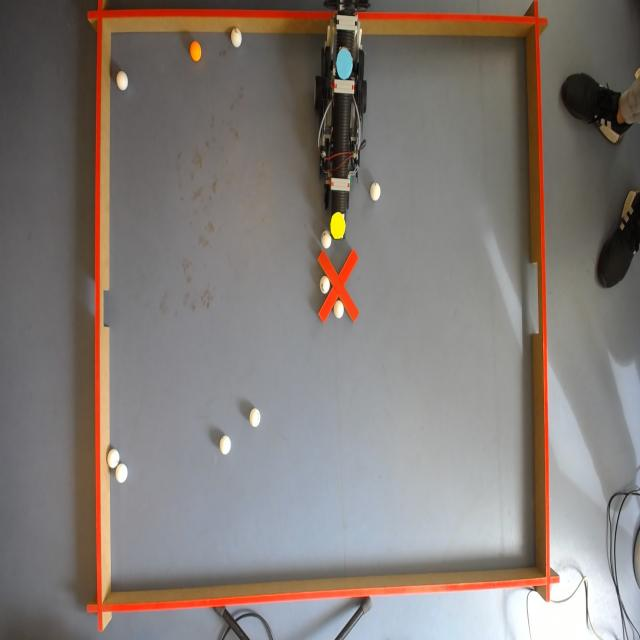orange: (190, 44, 204, 64)
robot: (317, 0, 366, 239)
robot-front: (331, 212, 346, 239)
robot-rear: (336, 49, 354, 80)
white: (106, 446, 120, 468), (231, 28, 243, 50), (248, 409, 262, 427), (117, 71, 128, 93), (117, 464, 129, 484), (221, 436, 233, 454), (332, 301, 343, 320), (370, 185, 383, 201), (319, 276, 329, 294), (322, 230, 331, 248)
